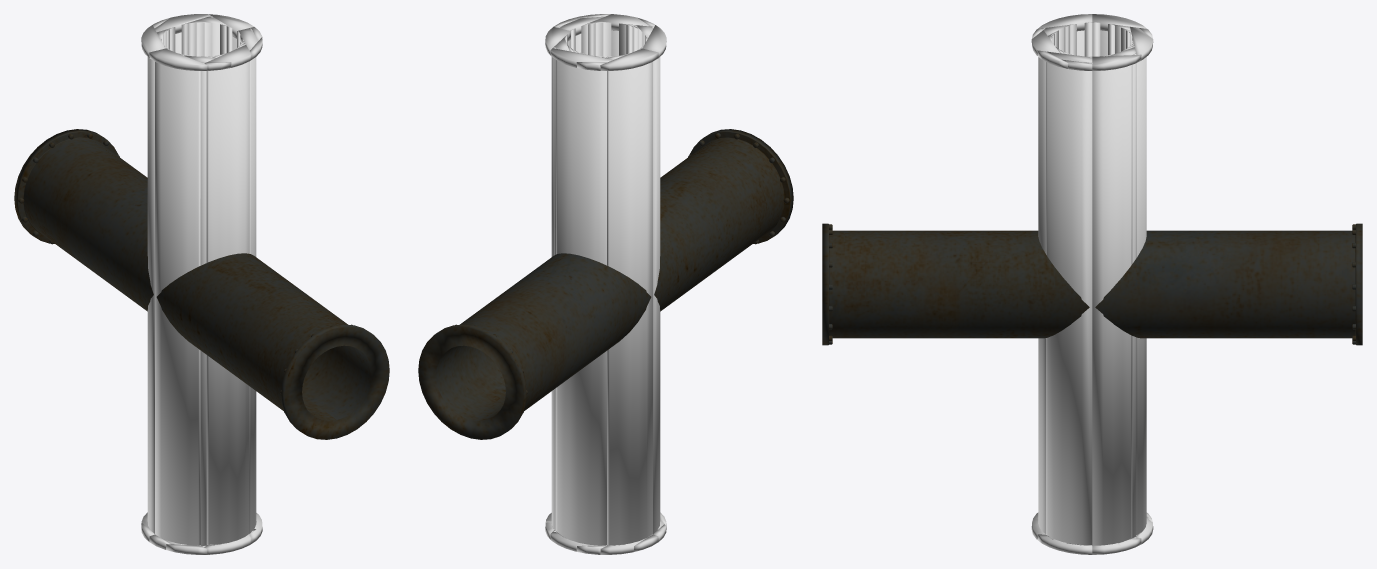
The model's file is SM_Pipes_XLarge_Basic.fbx.
The picture shows the model from 3 angles, left to right: view 1: azimuth 30°, elevation 25°; view 2: azimuth 150°, elevation 25°; view 3: azimuth 270°, elevation 25°; orthographic projection.
Parts seen in each view (by area): view 1: SM_Pipes_XLarge_Basic_ConvexHulls, SM_Pipes_XLarge_Basic; view 2: SM_Pipes_XLarge_Basic_ConvexHulls, SM_Pipes_XLarge_Basic; view 3: SM_Pipes_XLarge_Basic_ConvexHulls, SM_Pipes_XLarge_Basic.
Boxes of the visible parts, x1,y1,x2,y2 form: SM_Pipes_XLarge_Basic_ConvexHulls: [141, 14, 262, 554]; SM_Pipes_XLarge_Basic: [14, 129, 389, 439]; SM_Pipes_XLarge_Basic_ConvexHulls: [545, 14, 666, 554]; SM_Pipes_XLarge_Basic: [418, 129, 793, 439]; SM_Pipes_XLarge_Basic_ConvexHulls: [1031, 14, 1153, 554]; SM_Pipes_XLarge_Basic: [822, 223, 1362, 345].
Bounding box in the file's own units: 1.8 × 8 × 8.
